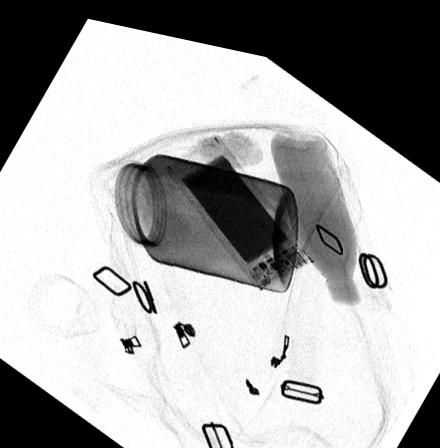Powerbank: (164, 125, 315, 278)
